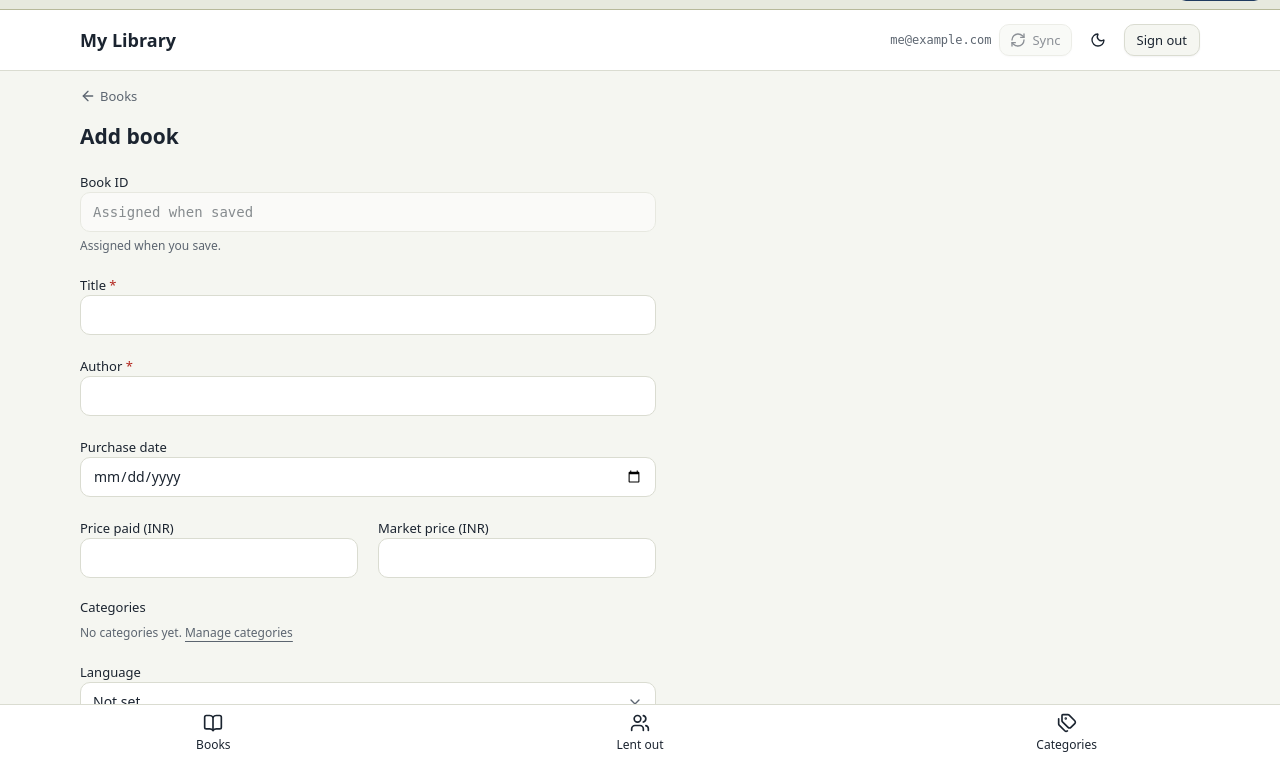
saving problems › on an expired session: saves the book on this device, goes back to the list, and shows it as pending
The width and height of the screenshot is (1280, 761).
Type "Dune" into the field labelled "Title *" at [368, 315], box [80,295,656,335]
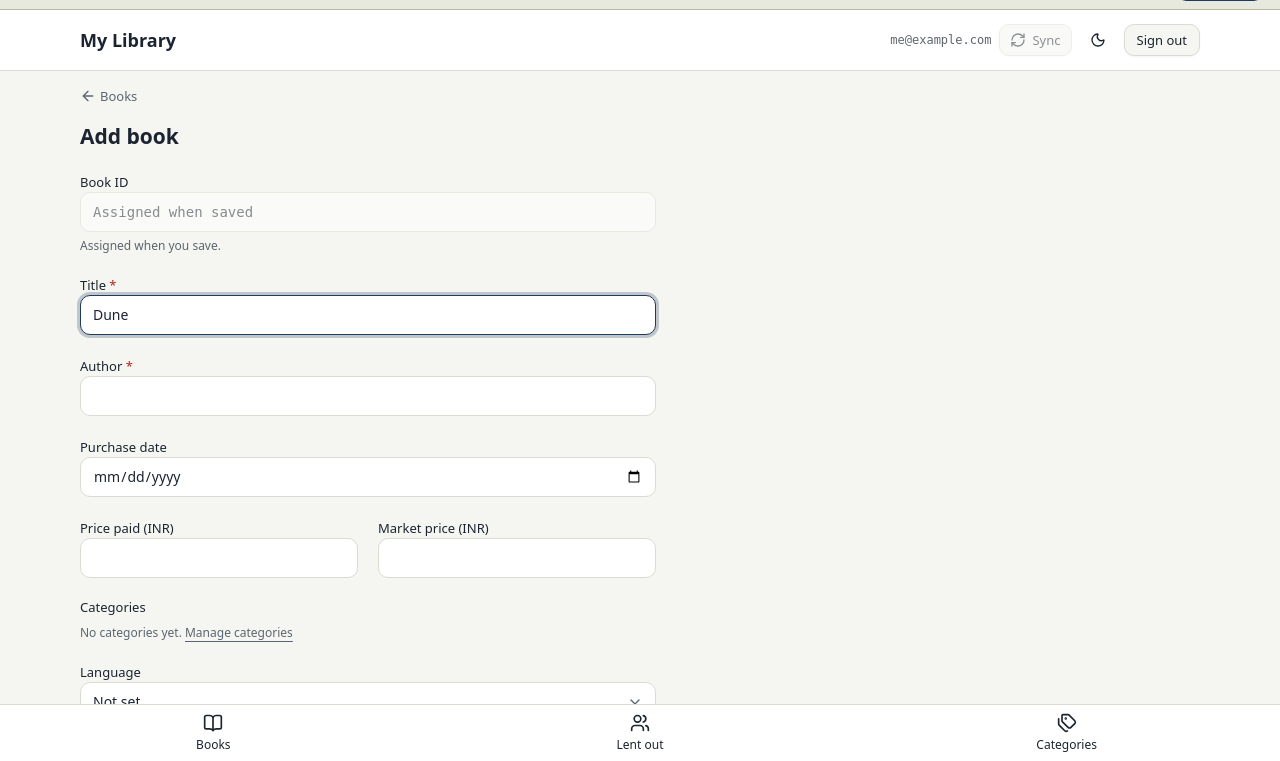
Type "Herbert" into the field labelled "Author *" at [368, 396], box [80,376,656,416]
(page scrolled)
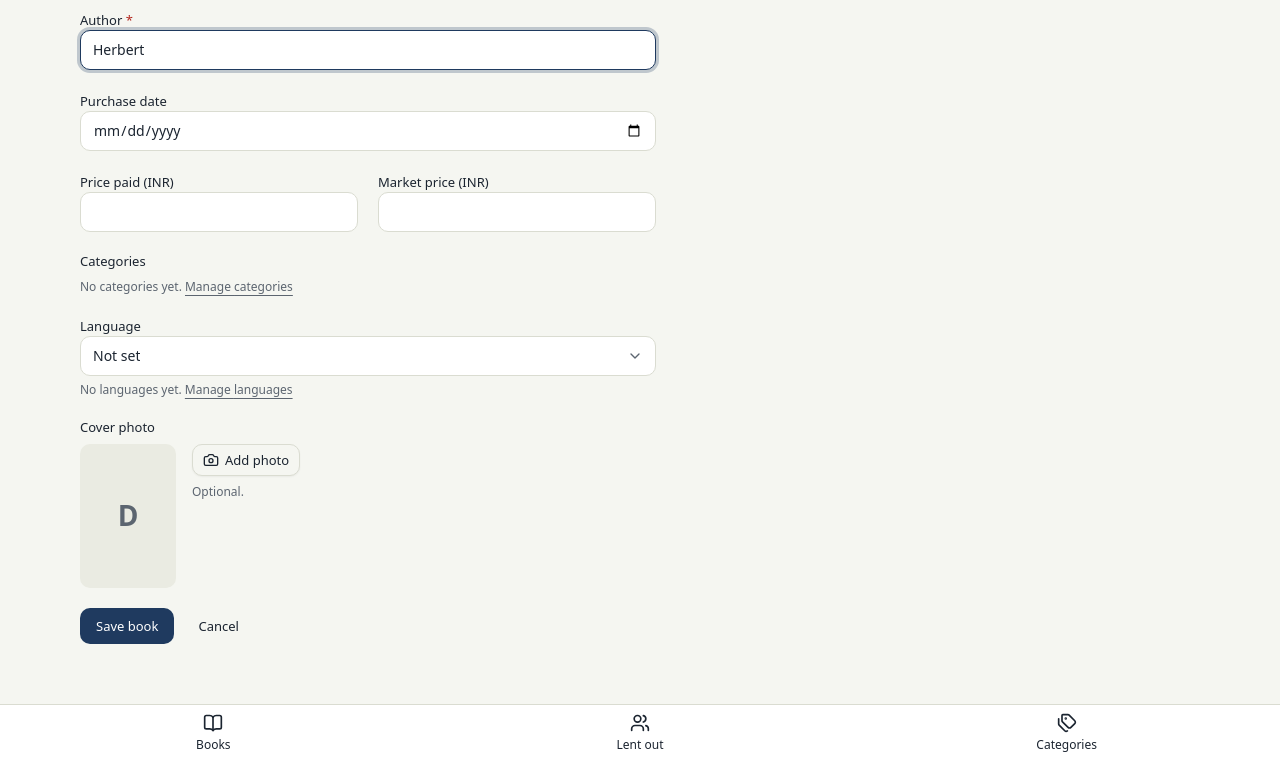
Click the button "Save book" at [127, 626], box [80,608,174,644]
(page scrolled)
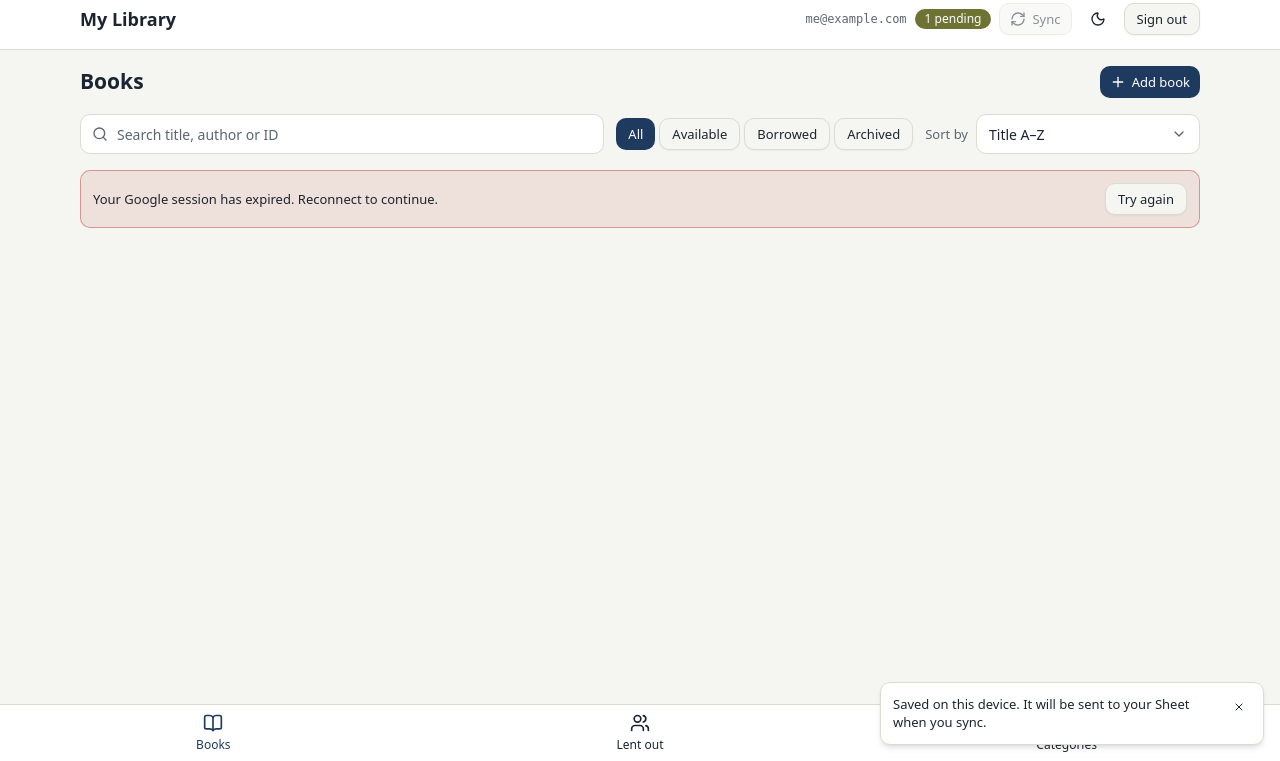
Result: the text "Saved on this device" is shown at [893,695,1189,732]
Result: the link with aria-label "Pending changes: 1 waiting" is shown at [915,9,991,29]
